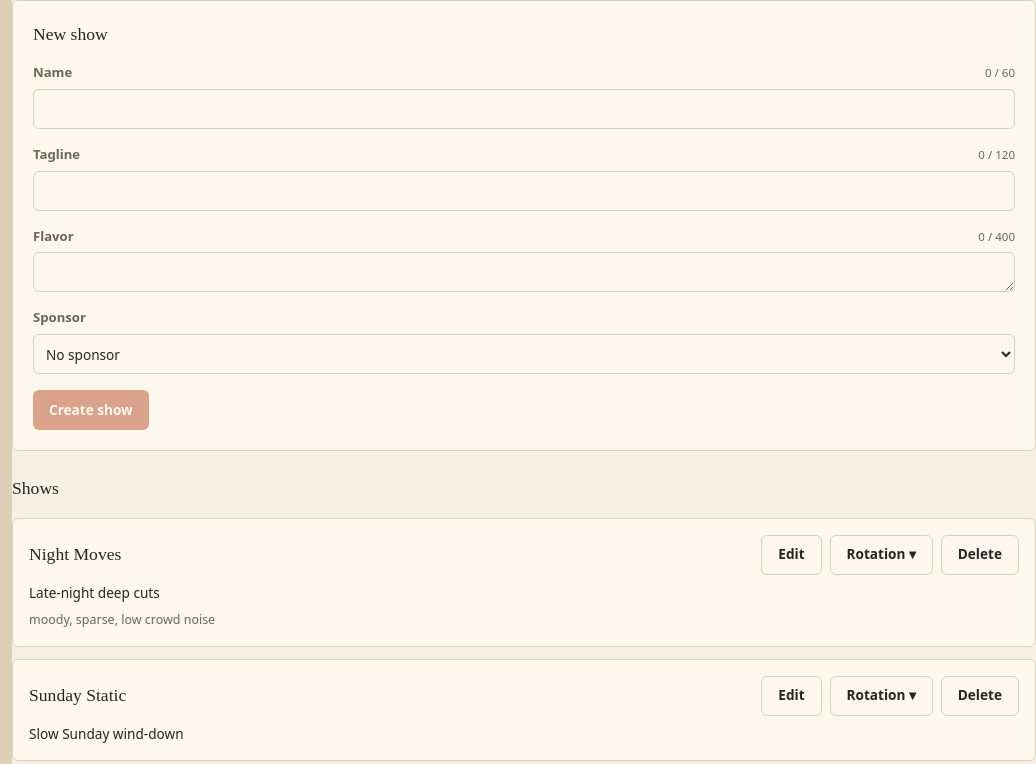
Test: Feature: The Shows page › Scenario: the rotation card only polls once expanded (T362 review MED-4b) › issues no rotation-pool/last-airing request until the card is opened, then issues exactly one pair on open
The width and height of the screenshot is (1036, 764).
Note: When the operator opens Night Moves's own rotation card...
Step 1. Click the button with aria-label "Show rotation rule for Night Moves" → coordinates (881, 554), box 830,534 -> 933,574
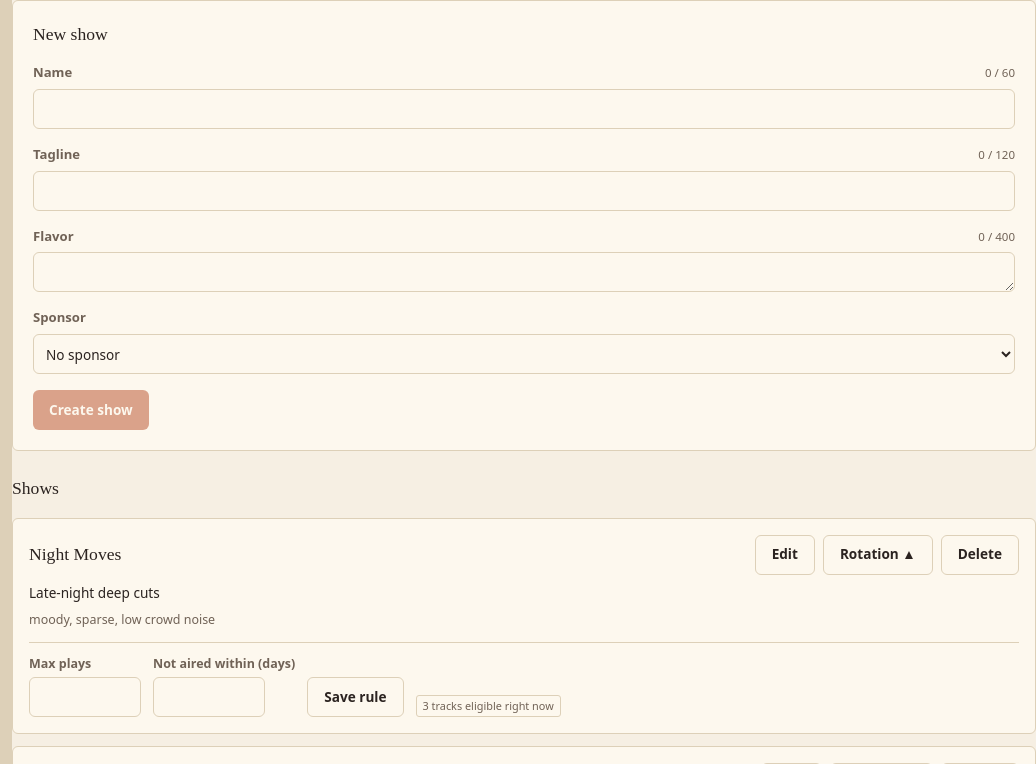
Now the form named "Rotation rule" is shown, box 29,655 -> 561,717
